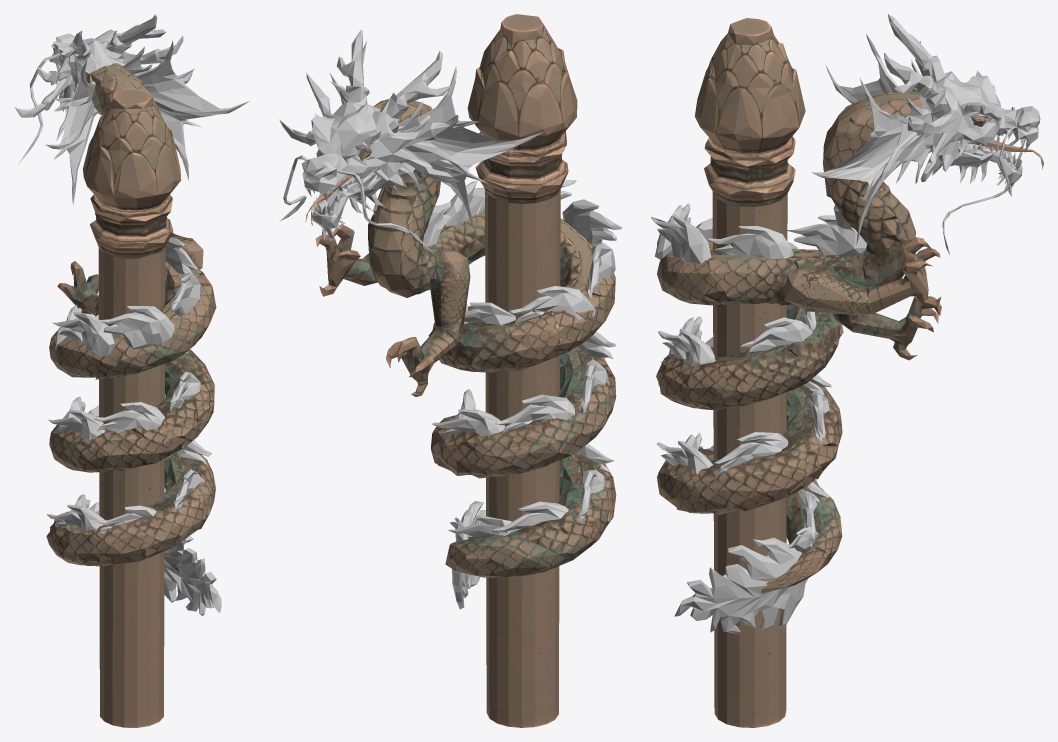
Rendered from DragonStatue_4.fbx.
3 renders of one model, left to right at view 1: azimuth 30°, elevation 25°; view 2: azimuth 150°, elevation 25°; view 3: azimuth 270°, elevation 25°, orthographic. The views are drawn at different scales.
Parts seen in each view (by area): view 1: SM_DragonStatue_04.mo; view 2: SM_DragonStatue_04.mo; view 3: SM_DragonStatue_04.mo.
Part boxes in pixels (<box>): SM_DragonStatue_04.mo: <box>14,14,249,727</box>; SM_DragonStatue_04.mo: <box>279,14,622,727</box>; SM_DragonStatue_04.mo: <box>651,14,1043,727</box>.
Size of the model in its own units: 211 by 584 by 295.
